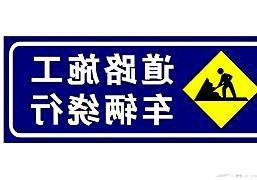sign: (7, 39, 256, 140)
